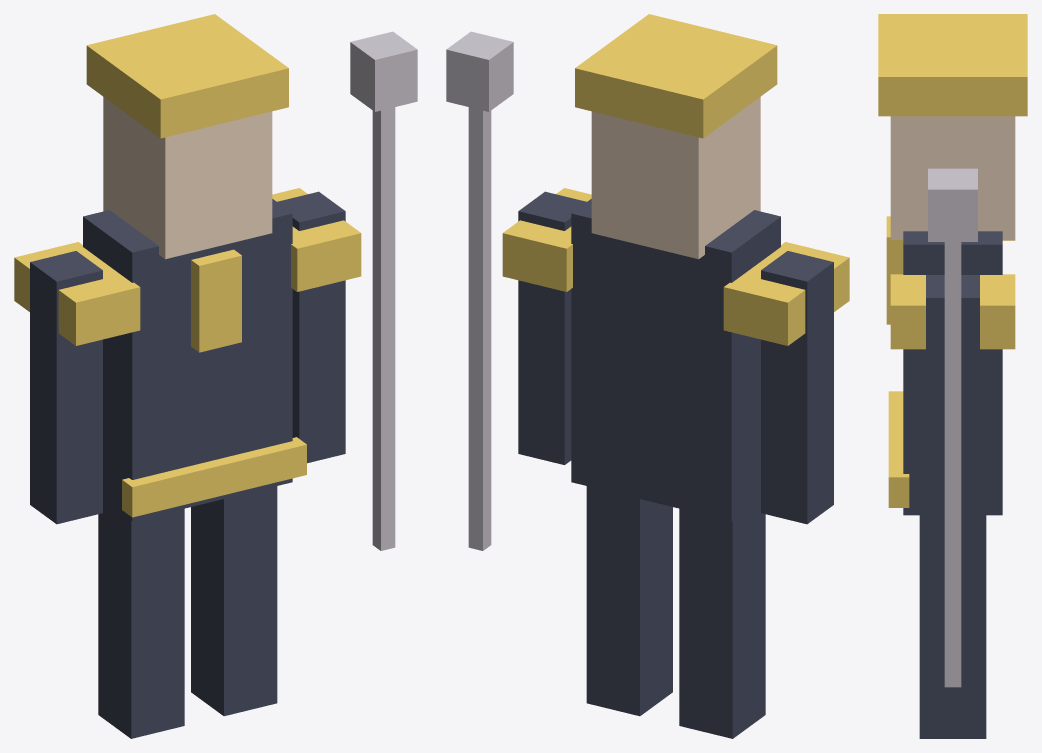
File: 14_ossa_cragwarden_runner_of_overpass.glb
3 views of the same model, side by side, from view 1: azimuth 30°, elevation 25°; view 2: azimuth 150°, elevation 25°; view 3: azimuth 270°, elevation 25° (orthographic).
Parts seen in each view (by area): view 1: Ossa Cragwarden, Runner of Overpass; view 2: Ossa Cragwarden, Runner of Overpass; view 3: Ossa Cragwarden, Runner of Overpass.
Part boxes in pixels (x1=…): Ossa Cragwarden, Runner of Overpass: x1=14, y1=14, x2=417, y2=738; Ossa Cragwarden, Runner of Overpass: x1=446, y1=14, x2=849, y2=738; Ossa Cragwarden, Runner of Overpass: x1=878, y1=14, x2=1027, y2=738.
Size of the model in its own units: 0.9621 by 1.66 by 0.3412.
